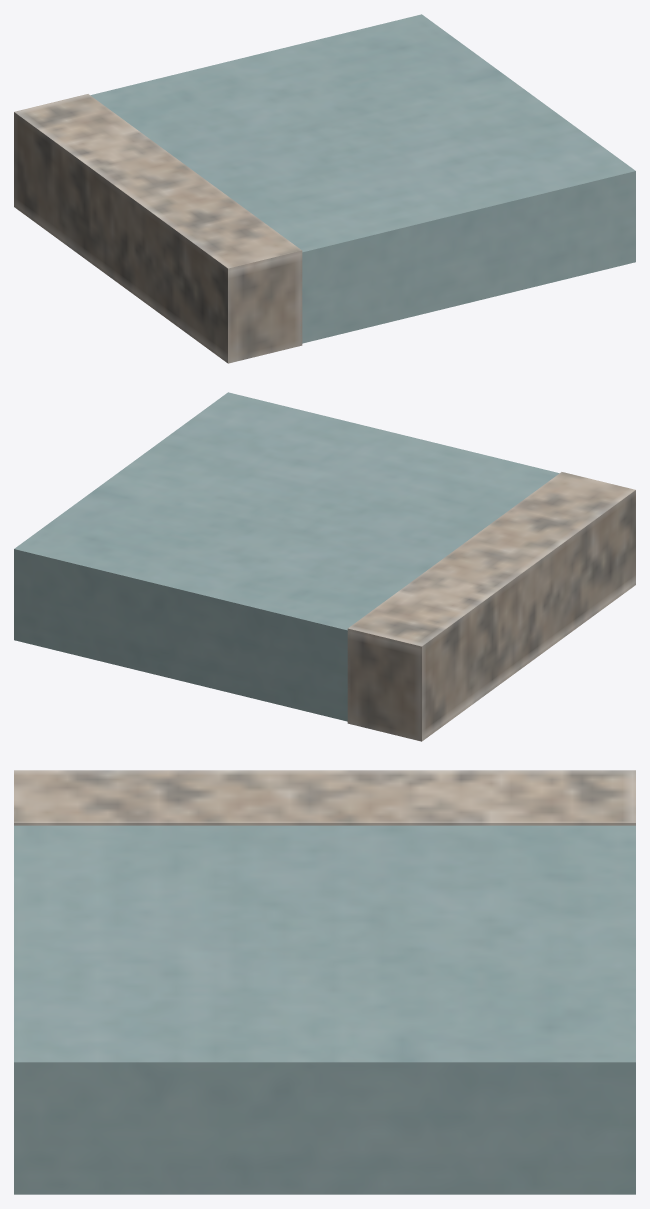
The model's file is set_base_a_03_half.fbx.
The picture shows the model from 3 angles, top to bottom: view 1: azimuth 30°, elevation 25°; view 2: azimuth 150°, elevation 25°; view 3: azimuth 270°, elevation 25°; orthographic projection. The views are drawn at different scales.
Parts seen in each view (by area): view 1: set_base_a_03_half; view 2: set_base_a_03_half; view 3: set_base_a_03_half.
Part boxes in pixels (box(x1,y1,x2,y2)): set_base_a_03_half: box(14, 14, 635, 363); set_base_a_03_half: box(14, 392, 635, 741); set_base_a_03_half: box(14, 770, 635, 1194).
Size of the model in its own units: 55 by 12.25 by 50.
